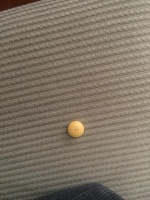Nurofen: (67, 119, 85, 138)
